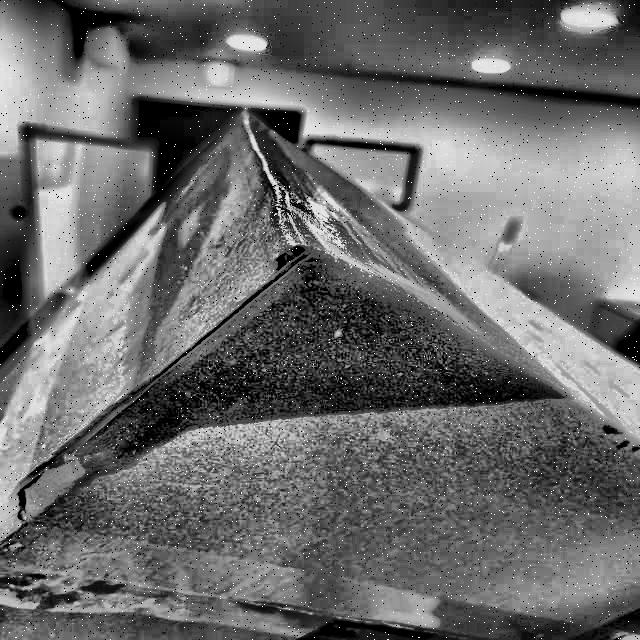box: (1, 101, 640, 639)
hole: (245, 598, 448, 640)
wet: (86, 108, 572, 457)
